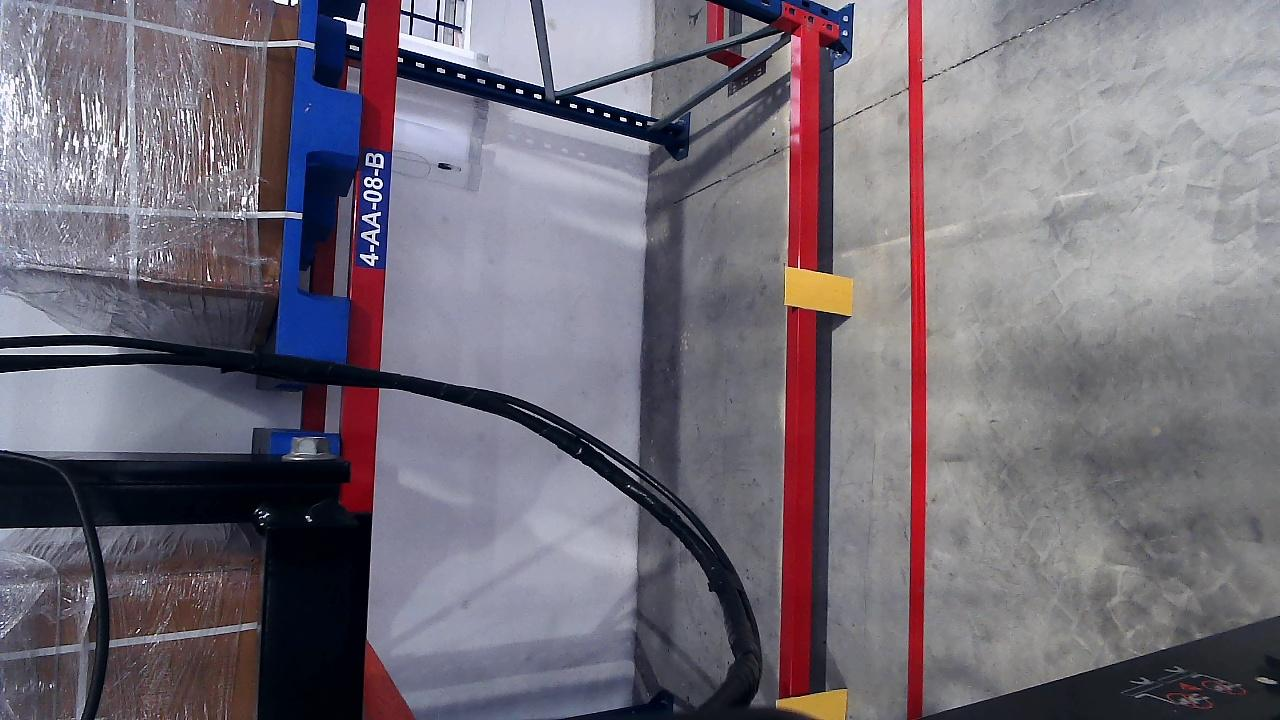h_rack: (784, 12, 827, 686), (346, 0, 403, 492)
orange_strip: (783, 266, 853, 316), (774, 688, 847, 719)
red_line: (906, 0, 925, 719)
small_pallet: (267, 3, 370, 361)
